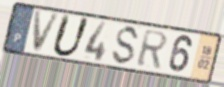4: (82, 20, 109, 64)
6: (168, 34, 194, 74)
R: (135, 28, 170, 70)
S: (109, 25, 141, 67)
U: (50, 13, 92, 59)
V: (32, 10, 62, 54)
